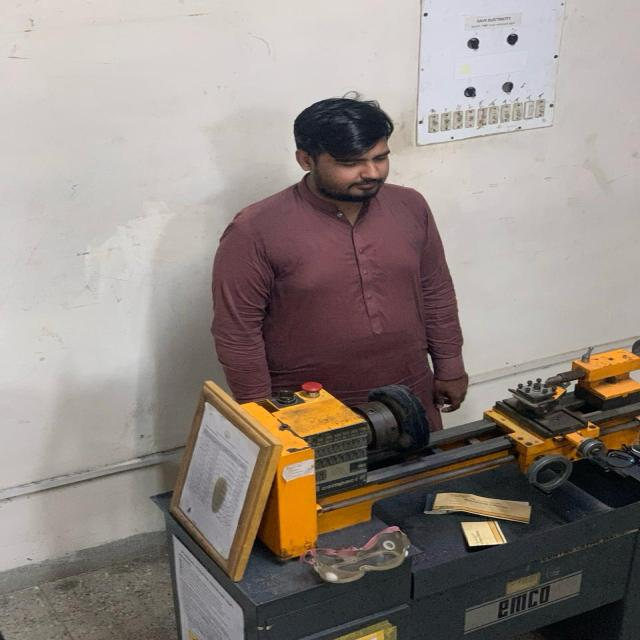dress: (207, 166, 472, 436)
